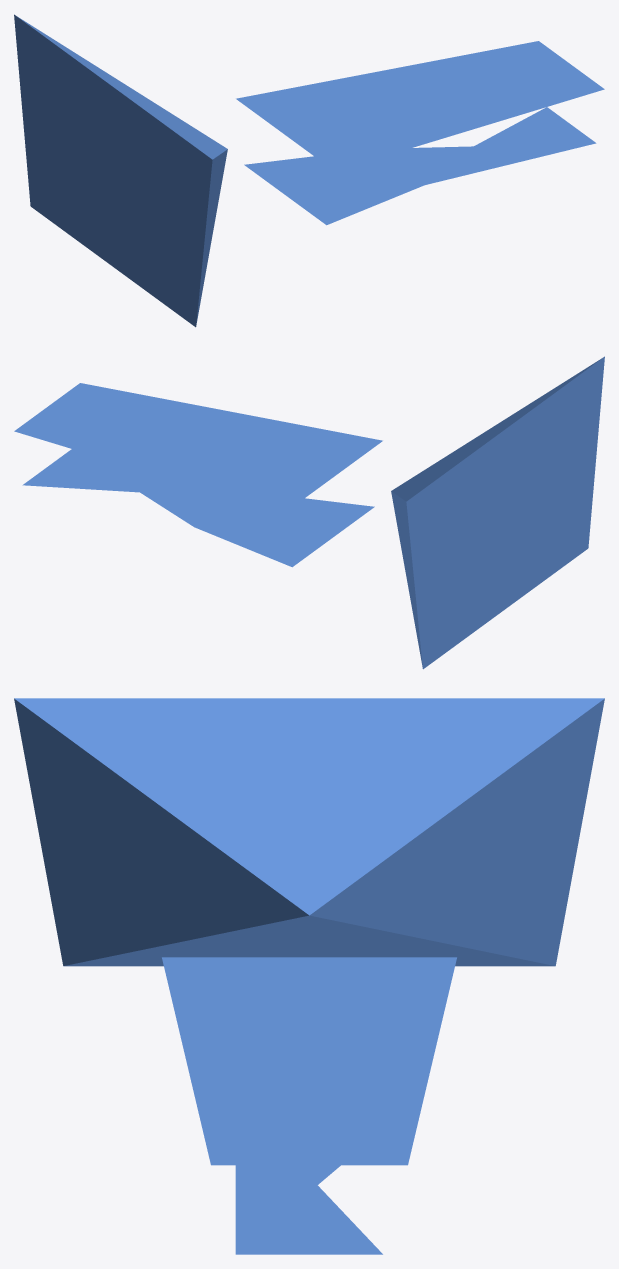
The model's file is deposit_fish.obj.
The picture shows the model from 3 angles, top to bottom: view 1: azimuth 30°, elevation 25°; view 2: azimuth 150°, elevation 25°; view 3: azimuth 270°, elevation 25°; orthographic projection. The views are drawn at different scales.
Bounding box in the file's own units: 0.16 × 0.06 × 0.12.
